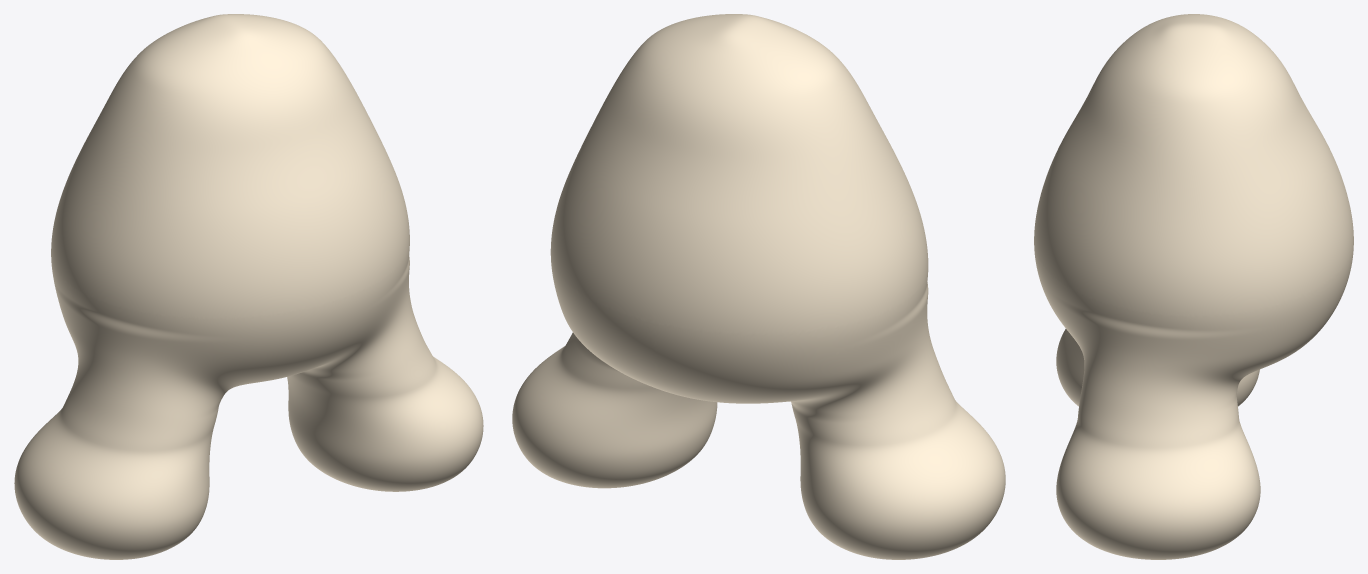
The model's file is body-legs.glb.
3 renders of one model, left to right at view 1: azimuth 30°, elevation 25°; view 2: azimuth 150°, elevation 25°; view 3: azimuth 270°, elevation 25°, orthographic. The views are drawn at different scales.
Visible parts, largest first — view 1: BodyLegs_DesignV5; view 2: BodyLegs_DesignV5; view 3: BodyLegs_DesignV5.
Boxes of the visible parts, <box> form: BodyLegs_DesignV5: <box>14,14,483,559</box>; BodyLegs_DesignV5: <box>512,14,1005,559</box>; BodyLegs_DesignV5: <box>1034,14,1353,559</box>.
Bounding box in the file's own units: 54.7 × 56 × 35.99.
